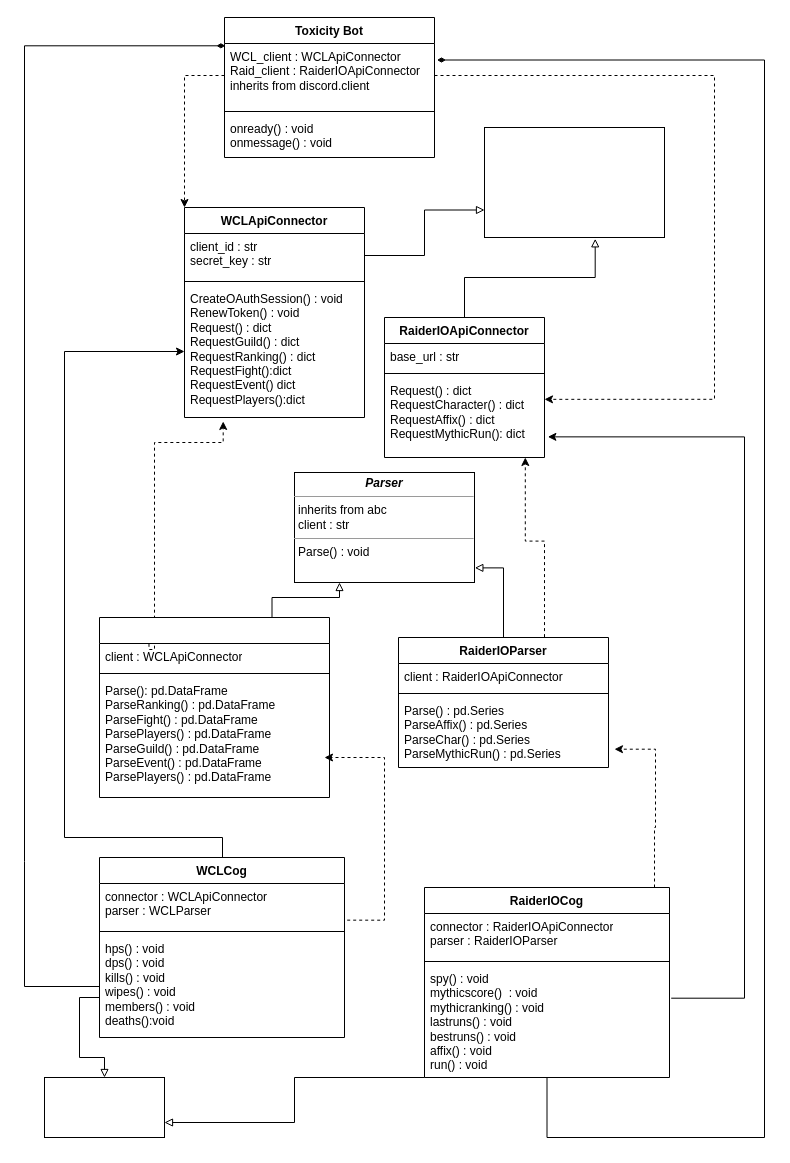
Image size: 790x1163. Some labels were removed from this diagram. Here are the shapes that lost their labels. From the top down, the box of each, then its label:
(484, 126, 664, 238): ApiClient inherits from abc base_url : str Request() : void
(98, 616, 330, 798): WCLParser
(44, 1076, 164, 1138): commands.Cog
